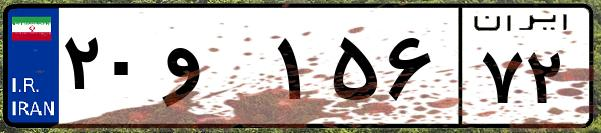0: (110, 28, 158, 98)
1: (270, 28, 330, 110)
2: (57, 26, 110, 100), (525, 38, 570, 115)
5: (330, 28, 385, 110)
6: (385, 28, 445, 110)
7: (475, 38, 525, 113)
و: (158, 20, 270, 120)
